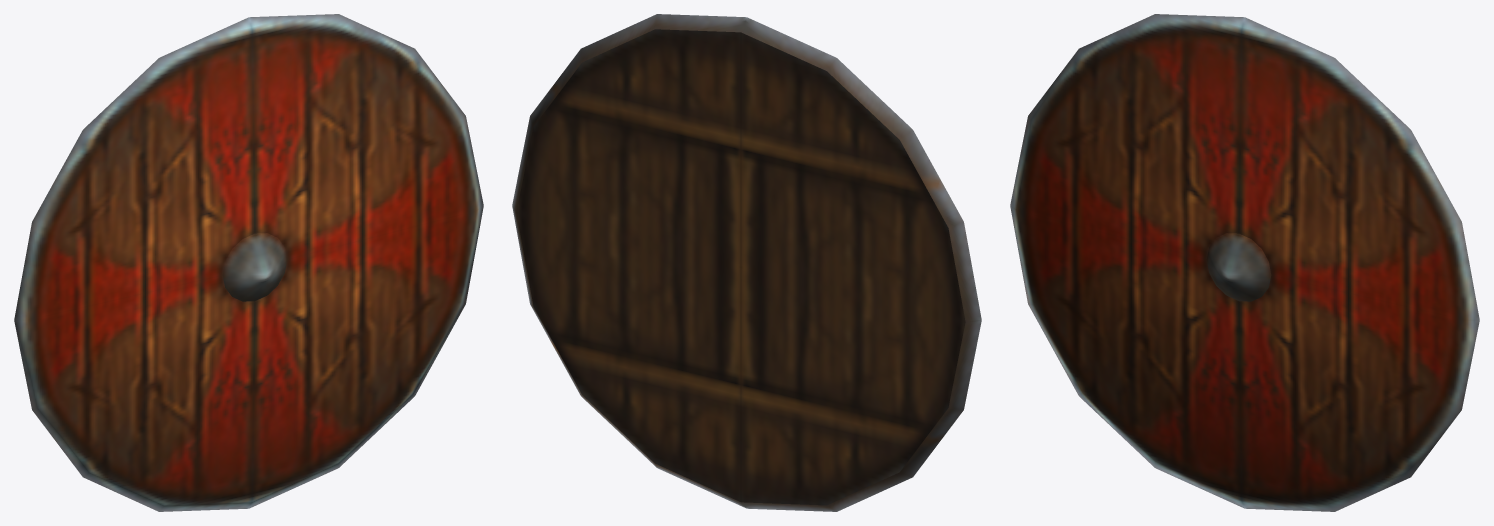
Rendered from Shield02.FBX.
3 renders of one model, left to right at view 1: azimuth 30°, elevation 25°; view 2: azimuth 150°, elevation 25°; view 3: azimuth 330°, elevation 25°, orthographic.
Visible parts, largest first — view 1: Shield02; view 2: Shield02; view 3: Shield02.
Boxes of the visible parts, <box> form: Shield02: <box>14,14,483,511</box>; Shield02: <box>512,14,981,511</box>; Shield02: <box>1010,14,1479,511</box>.
Size of the model in its own units: 67.44 by 67.44 by 5.83.
